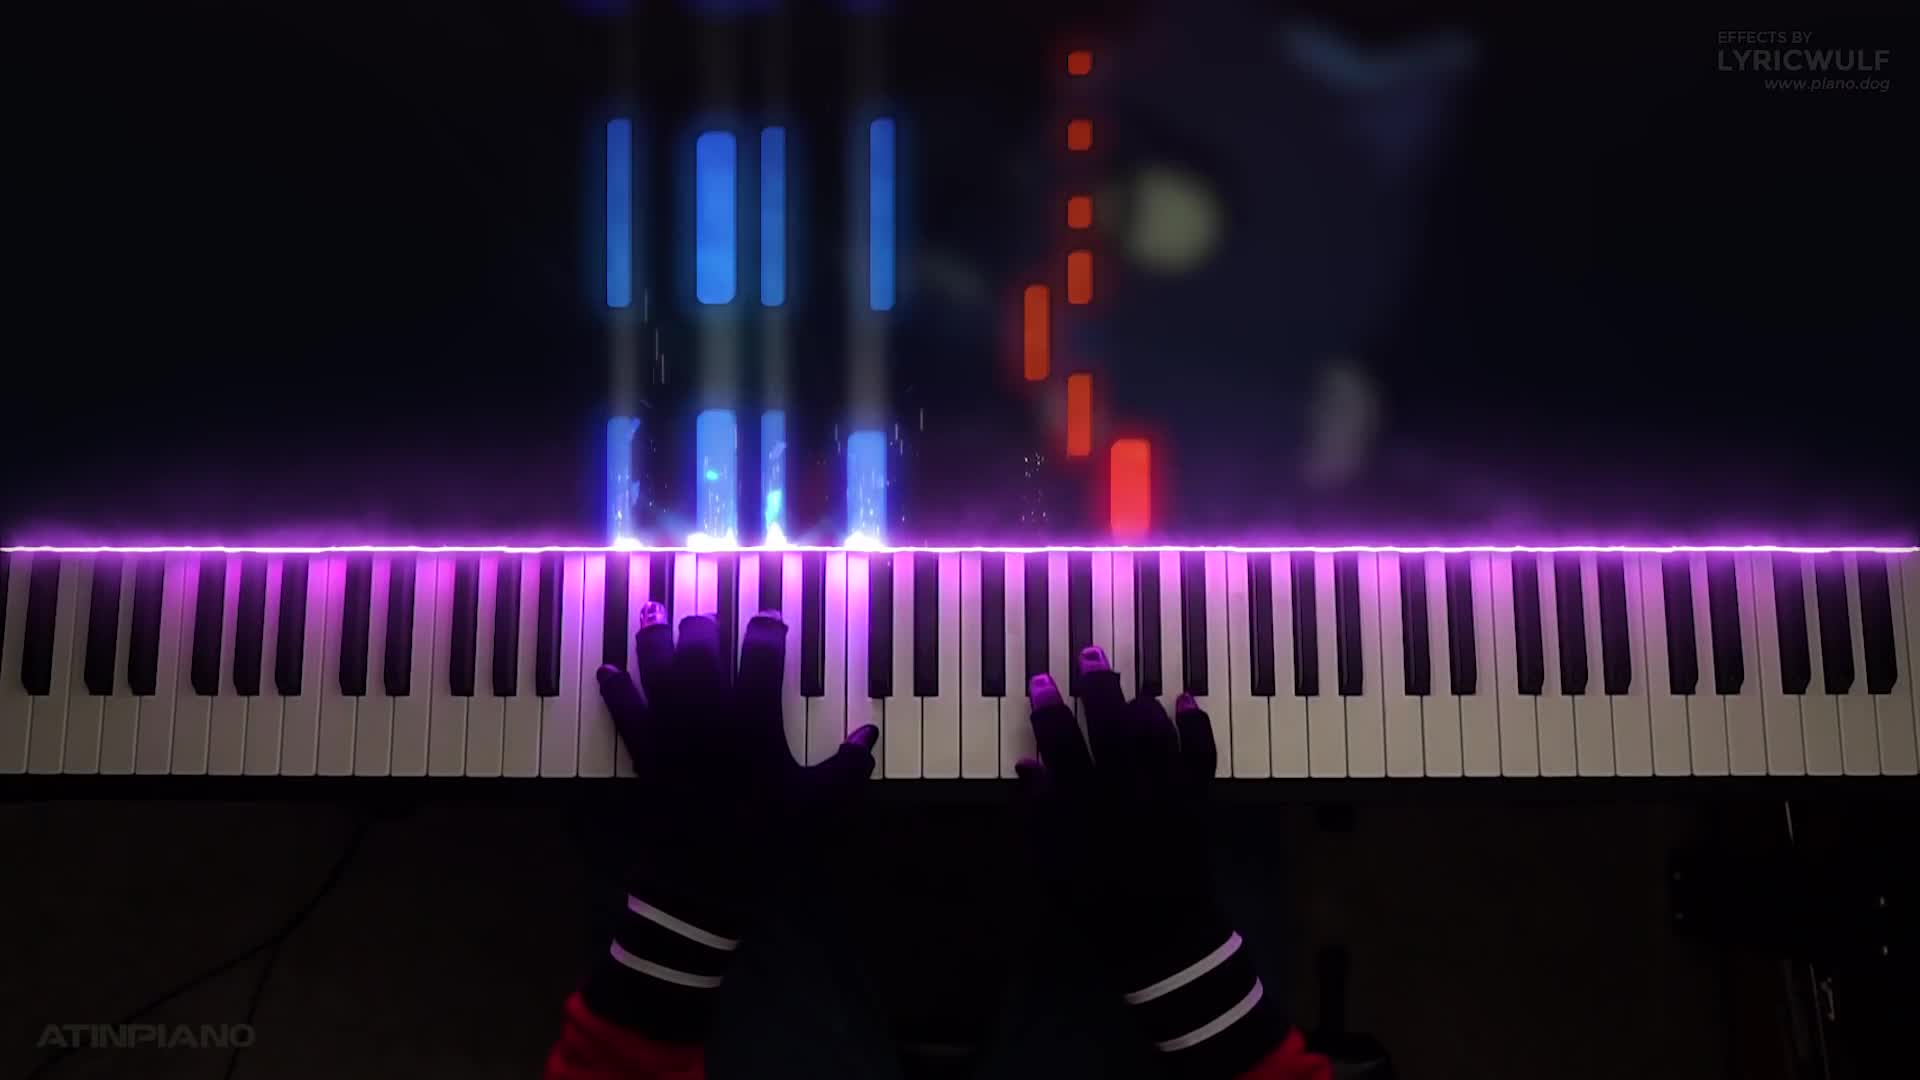left: (597, 597, 881, 884)
right: (1015, 645, 1226, 915)
